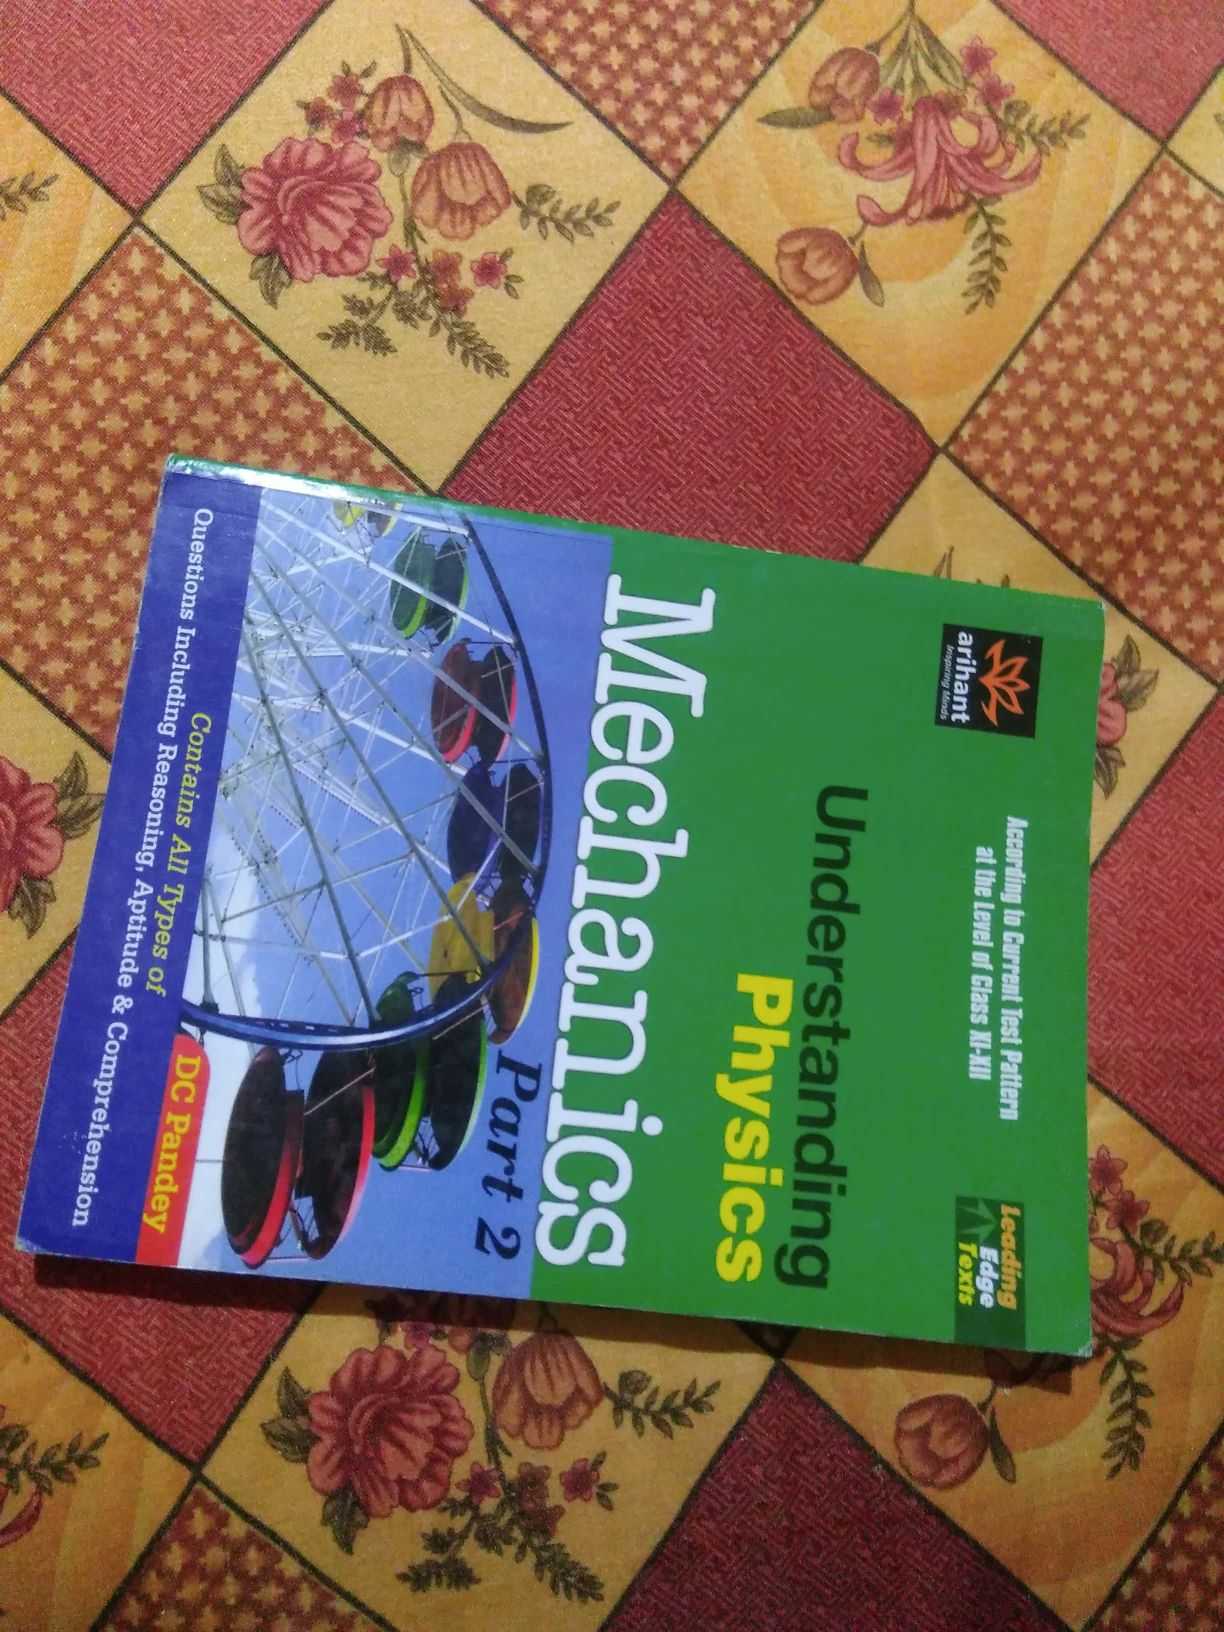mechanics: (80, 432, 1097, 1424)
